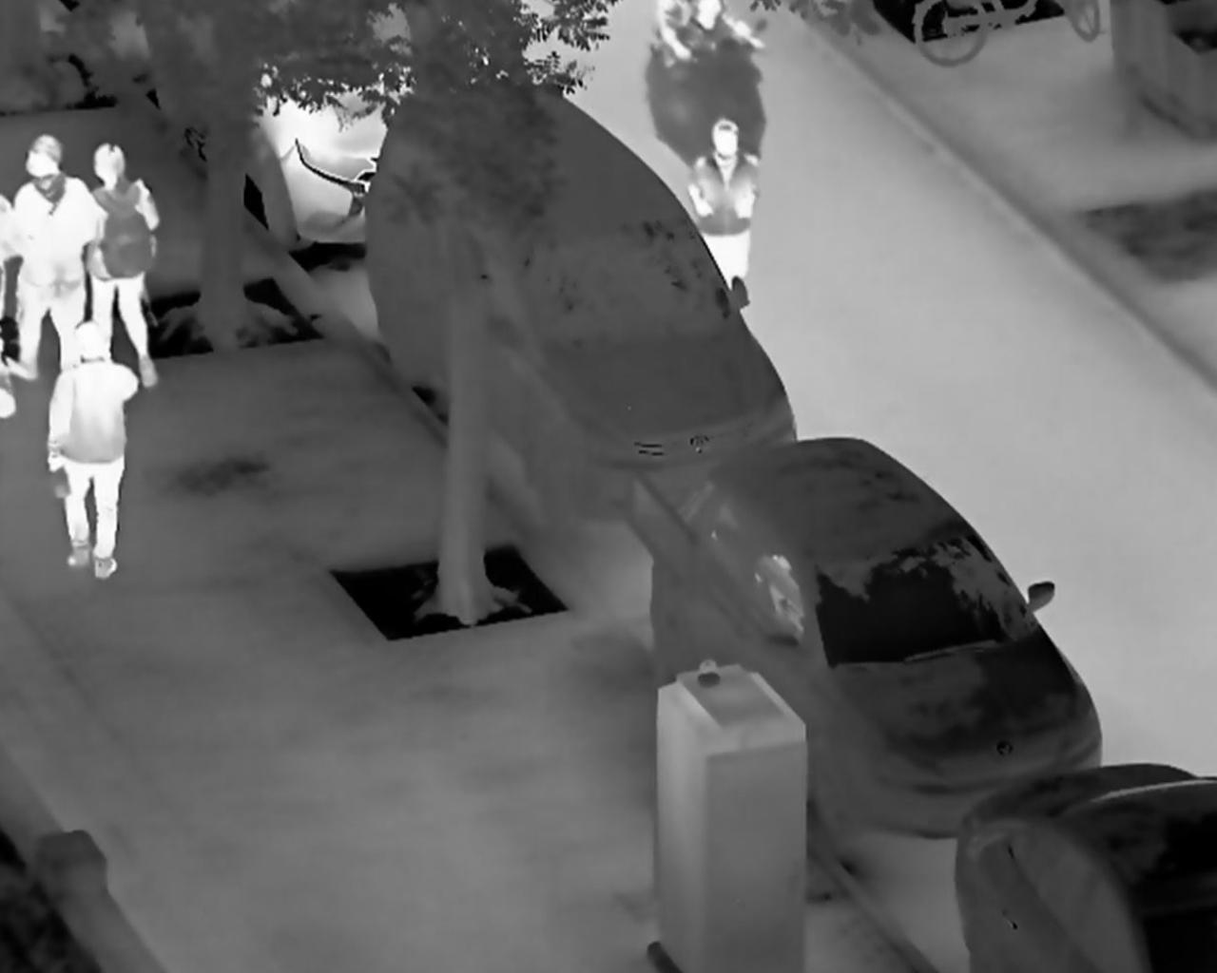person: (46, 317, 140, 580), (10, 132, 101, 384), (87, 142, 164, 390), (688, 114, 760, 290)
